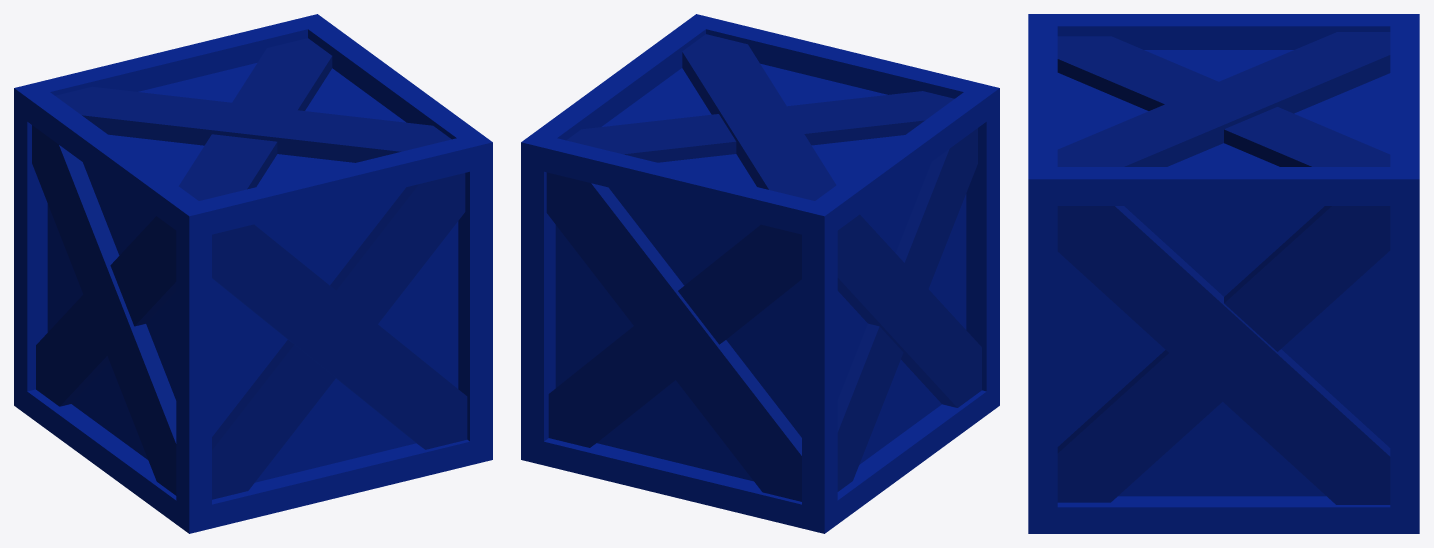
Rendered from Crate3.fbx.
3 views of the same model, side by side, from view 1: azimuth 30°, elevation 25°; view 2: azimuth 150°, elevation 25°; view 3: azimuth 270°, elevation 25° (orthographic). The views are drawn at different scales.
Visible parts, largest first — view 1: Cube.001; view 2: Cube.001; view 3: Cube.001.
Part boxes in pixels (x1,y1,x2,y2): Cube.001: (14,14,492,533); Cube.001: (521,14,999,533); Cube.001: (1028,14,1419,533).
Bounding box in the file's own units: 200 × 200 × 200.
